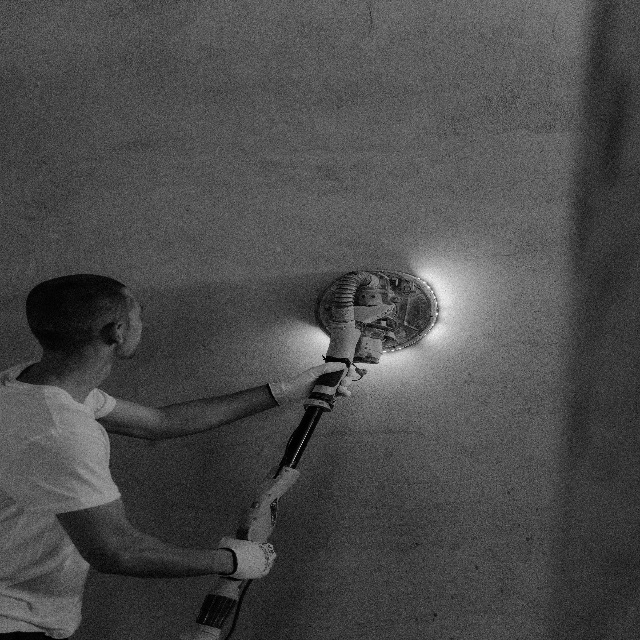Guantes: (272, 361, 359, 403), (216, 534, 278, 575)
